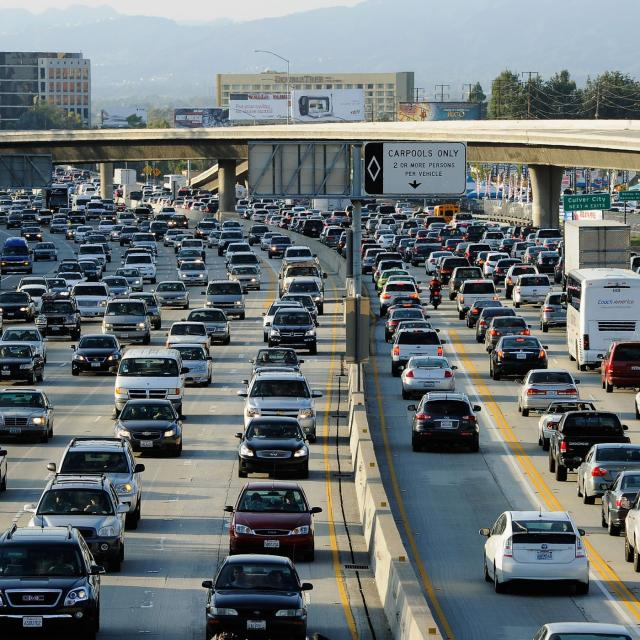Clean road: (4, 223, 640, 640)
